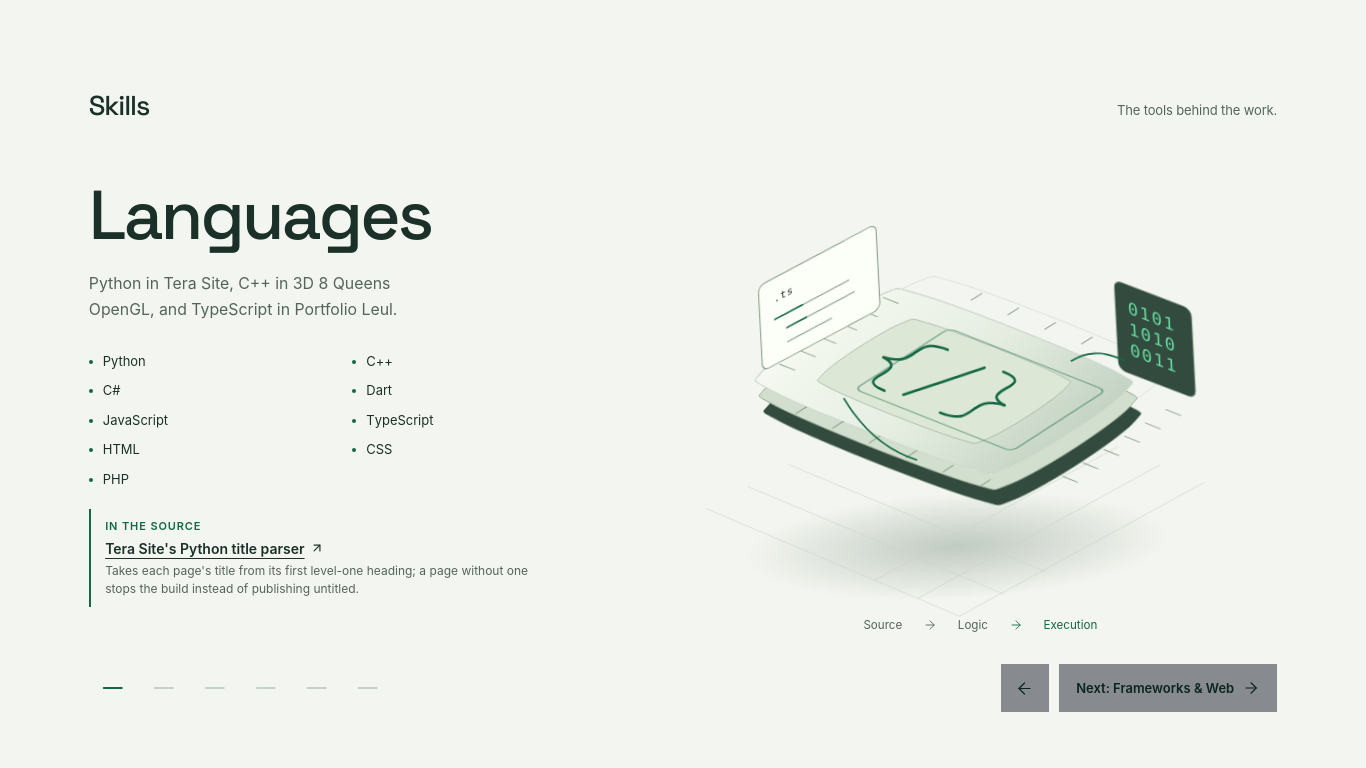
Test: Skills completed-beat playback › retraces the same score in reverse and restores the original artifact
What coordinates should you click on to do the following:
click the button "Next: Frameworks & Web"
I would click on:
 (1168, 688)
Its box is [1059, 664, 1277, 712].
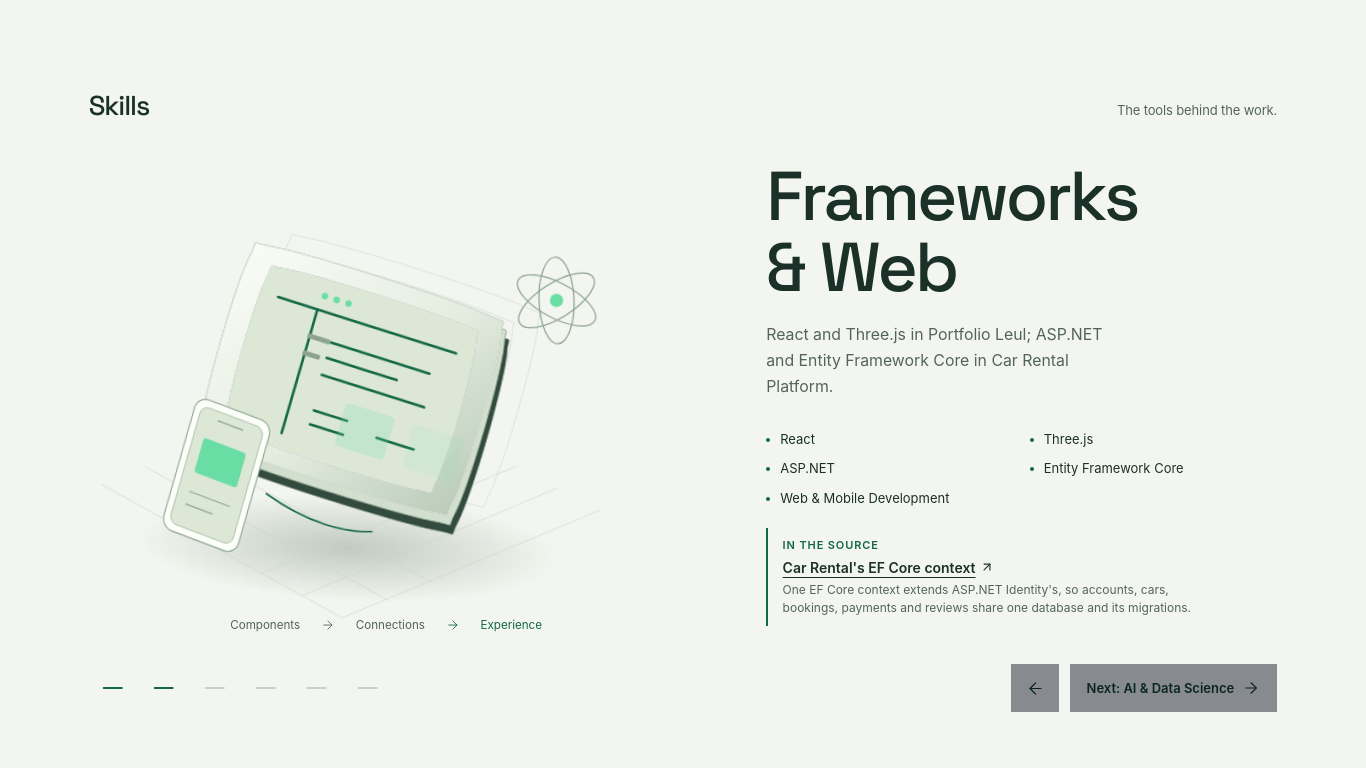
What coordinates should you click on to do the following:
click the button named "Previous skill"
I would click on:
 (1035, 688)
Its box is [1011, 664, 1059, 712].
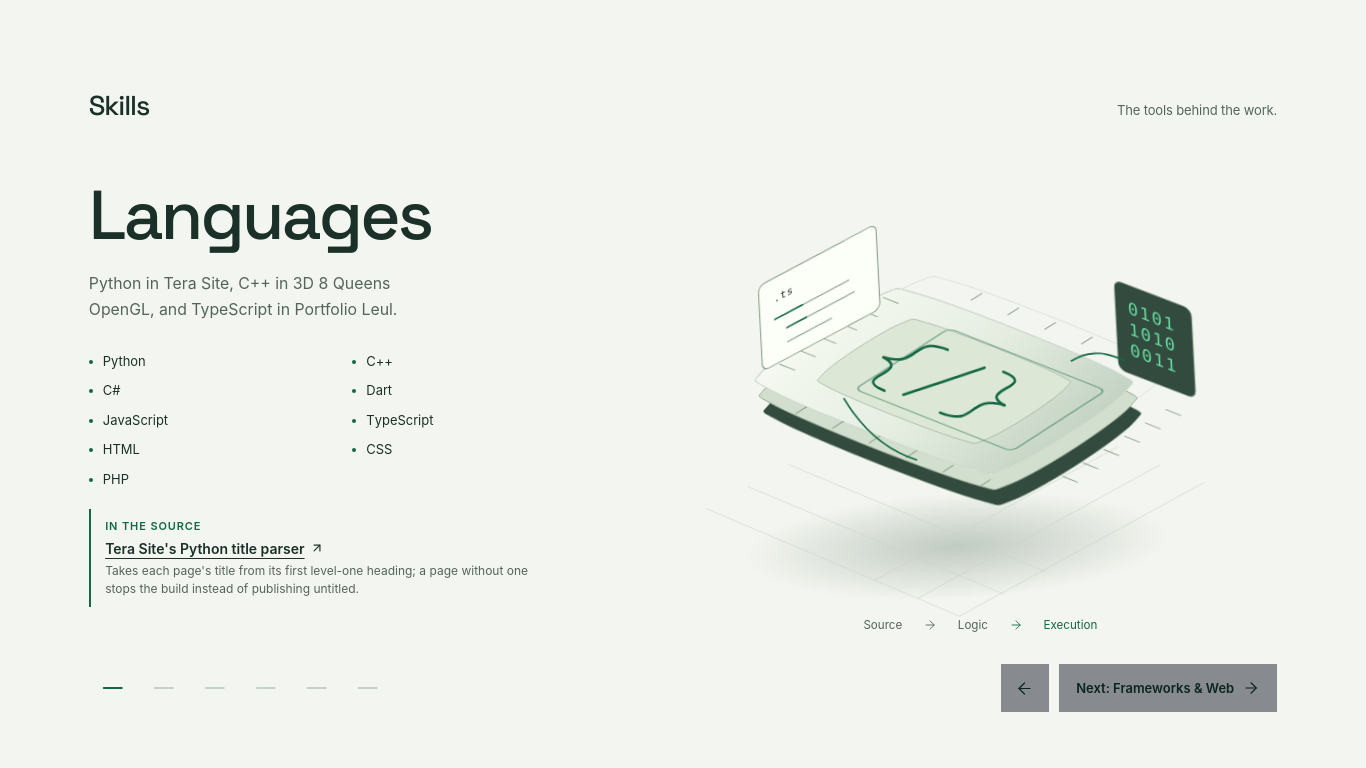
Check: the heading named "Languages" is shown, box [89, 171, 431, 259]
